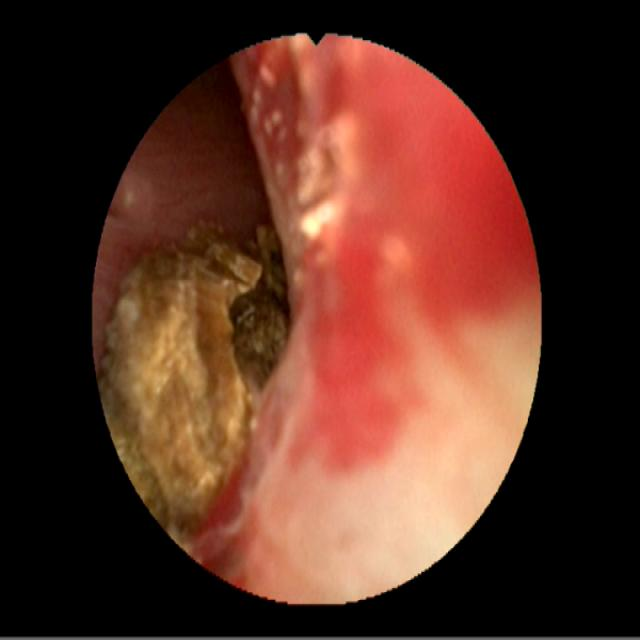stone: (101, 223, 289, 528)
tissue: (114, 43, 528, 588)
